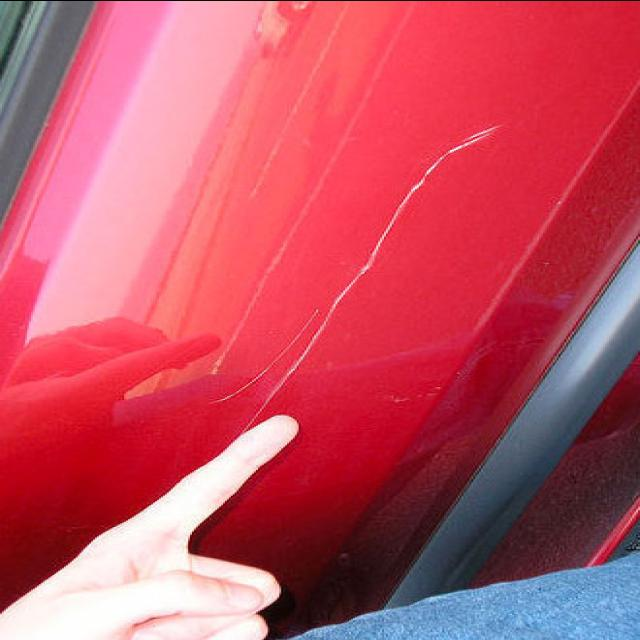paint-trace: (189, 120, 512, 452)
